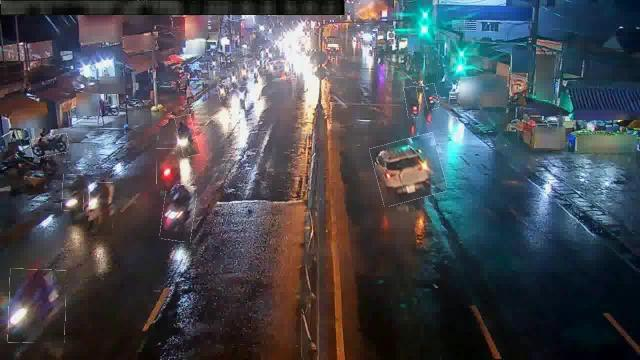Bike: (8, 269, 66, 343), (160, 184, 196, 242), (90, 182, 114, 228), (176, 115, 198, 157), (157, 148, 177, 192), (62, 174, 84, 210), (31, 136, 69, 156), (405, 86, 419, 118), (424, 83, 440, 109), (238, 86, 250, 110), (238, 61, 250, 81), (228, 68, 238, 90), (218, 84, 228, 103)
Car: (372, 136, 444, 204)
